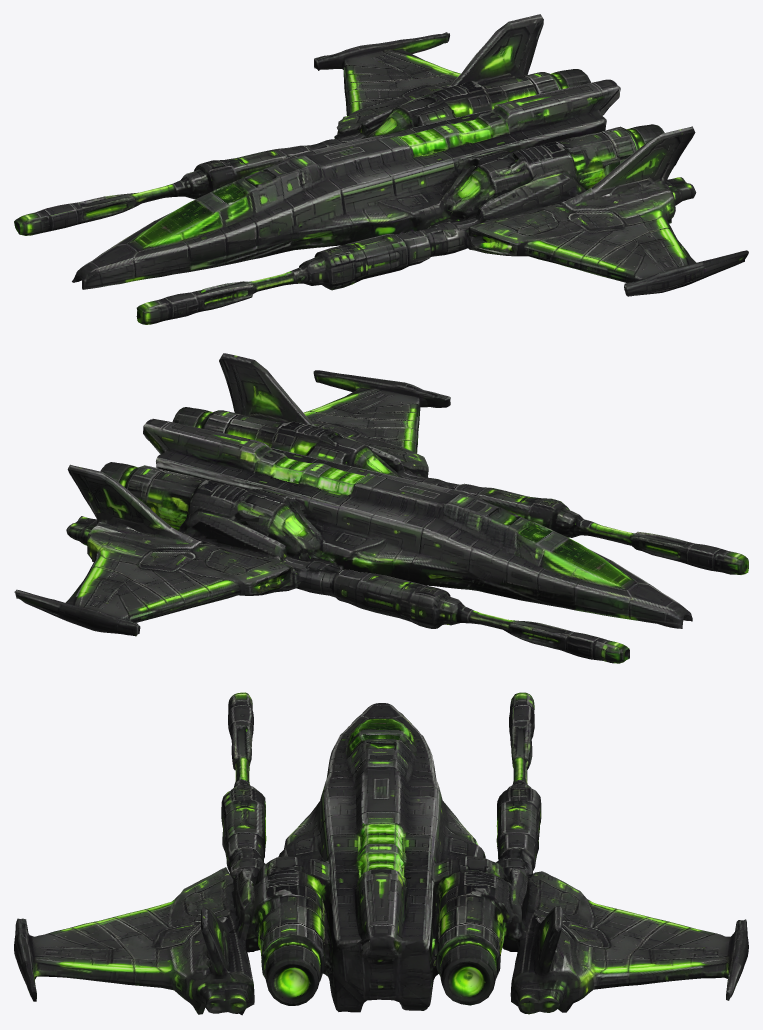
Rendered from ship5.glb.
3 renders of one model, top to bottom at view 1: azimuth 30°, elevation 25°; view 2: azimuth 150°, elevation 25°; view 3: azimuth 270°, elevation 25°, orthographic. The views are drawn at different scales.
Parts seen in each view (by area): view 1: Mesh0; view 2: Mesh0; view 3: Mesh0.
Part boxes in pixels (left/top/right/bottom): Mesh0: left=14, top=14, right=748, bottom=324; Mesh0: left=14, top=353, right=748, bottom=663; Mesh0: left=14, top=692, right=748, bottom=1015.
Bounding box in the file's own units: 1.91 × 0.3107 × 1.91.
Materials: 1 (1 with a texture image).
